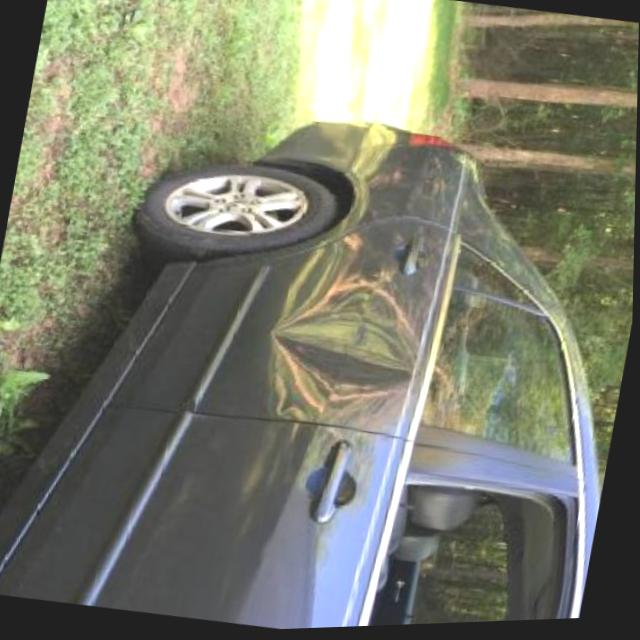Dent: (268, 309, 418, 395)
